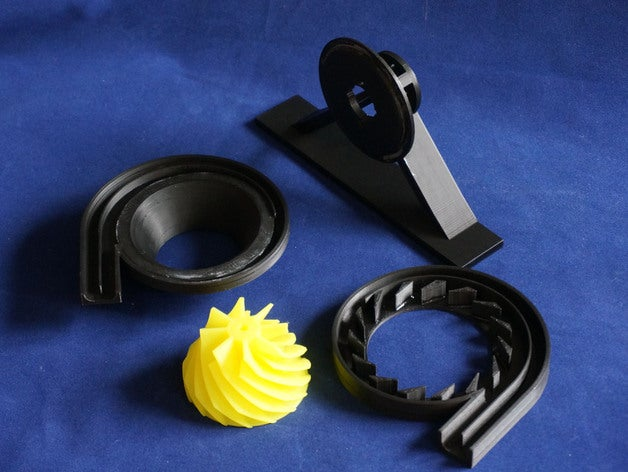Good: (57, 29, 560, 472)
